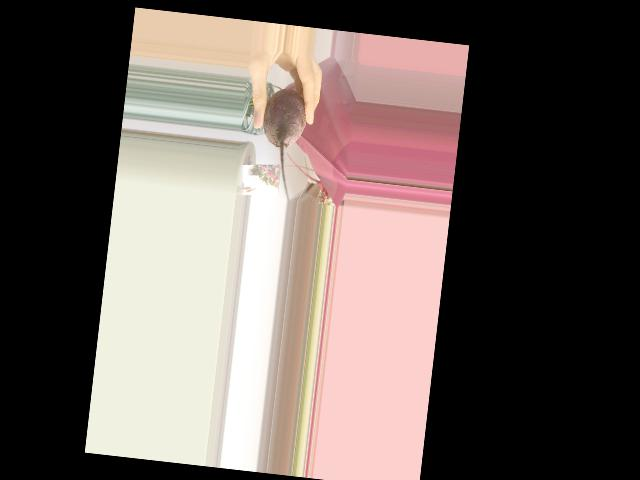beet: (254, 85, 309, 202)
